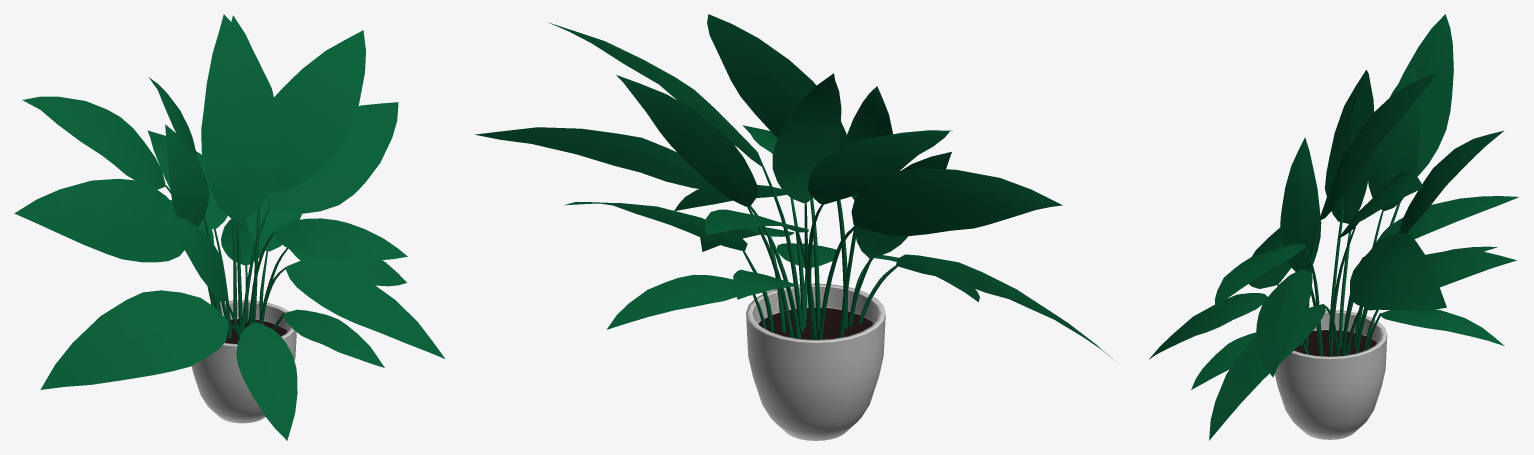
Rendered from plant2.fbx.
3 renders of one model, left to right at view 1: azimuth 30°, elevation 25°; view 2: azimuth 150°, elevation 25°; view 3: azimuth 270°, elevation 25°, orthographic. The views are drawn at different scales.
Visible parts, largest first — view 1: 02; view 2: 02; view 3: 02.
Boxes of the visible parts, left/top/right/bottom form: 02: left=14, top=14, right=444, bottom=440; 02: left=475, top=14, right=1114, bottom=440; 02: left=1149, top=14, right=1518, bottom=440.
Size of the model in its own units: 613 by 479 by 433.
